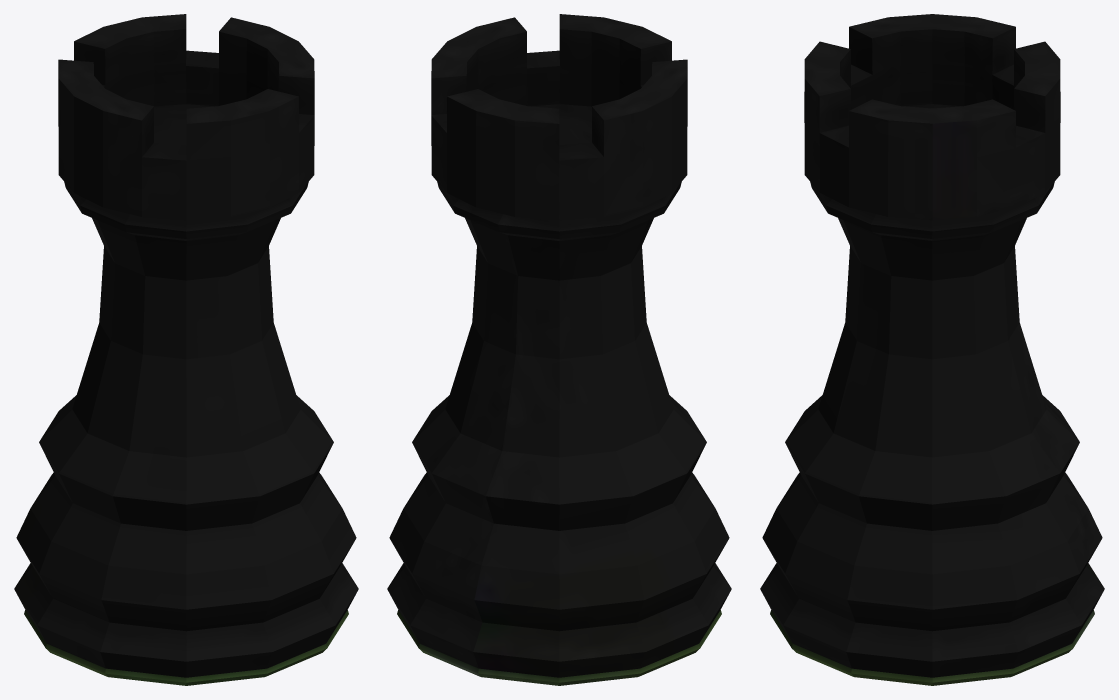
File: rook.glb
3 views of the same model, side by side, from view 1: azimuth 30°, elevation 25°; view 2: azimuth 150°, elevation 25°; view 3: azimuth 270°, elevation 25° (orthographic).
Visible parts, largest first — view 1: rook.obj; view 2: rook.obj; view 3: rook.obj.
Boxes of the visible parts, left/top/right/bottom form: rook.obj: left=14, top=14, right=358, bottom=685; rook.obj: left=387, top=14, right=731, bottom=685; rook.obj: left=760, top=14, right=1104, bottom=685.
Size of the model in its own units: 0.5676 by 1 by 0.5676.
1 material, 1 textured.
